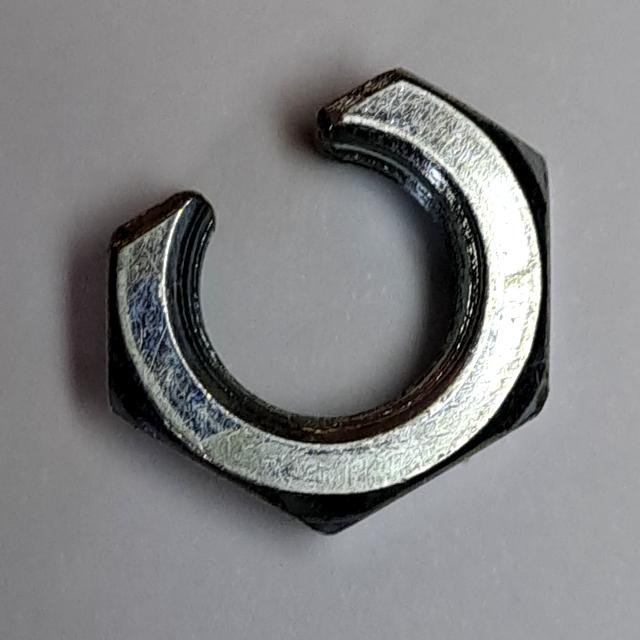Fracture: (90, 55, 569, 548)
